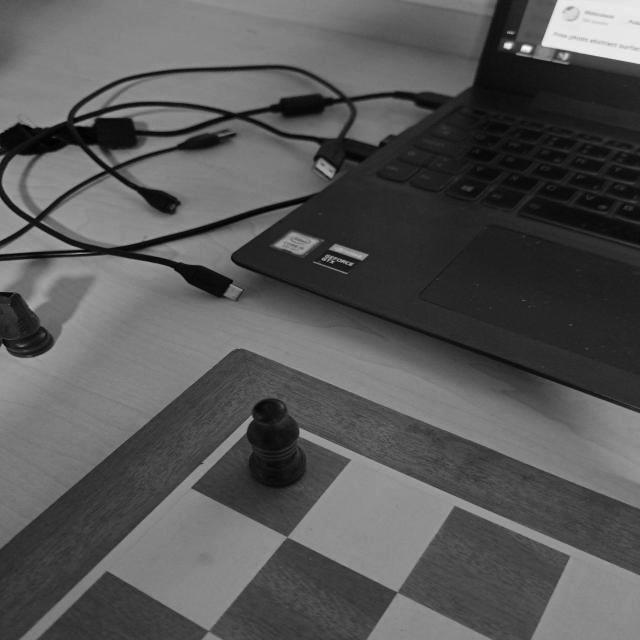chess-table-corners: (219, 396, 312, 451)
